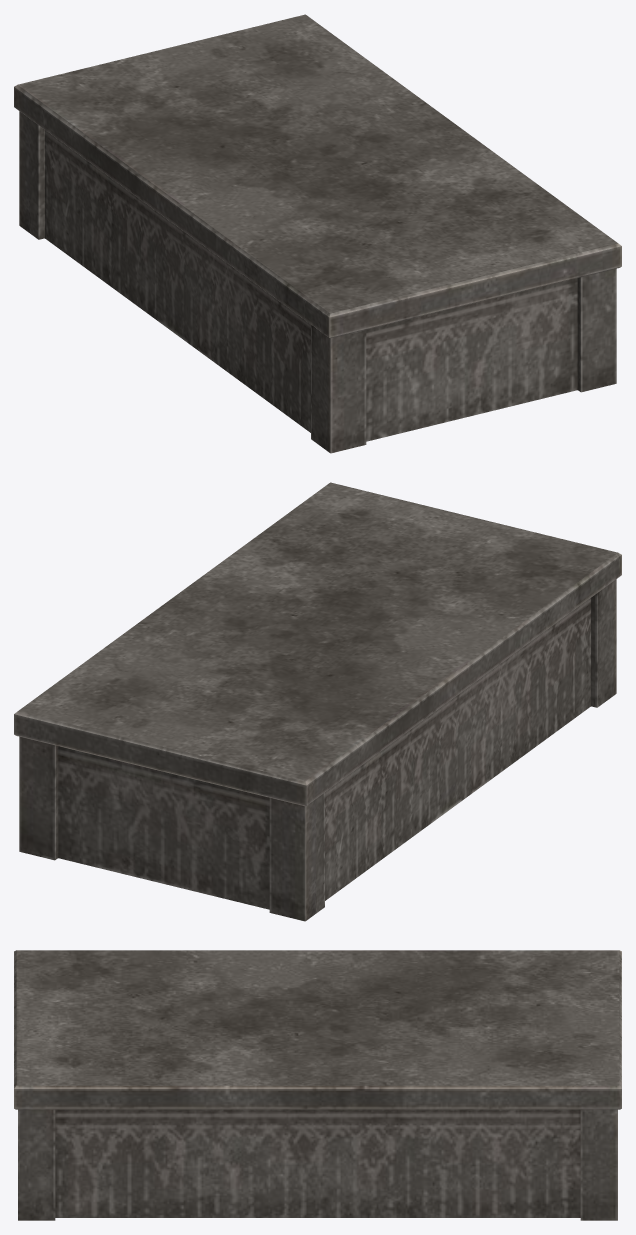
File: SM_Alter.glb
The picture shows the model from 3 angles, top to bottom: view 1: azimuth 30°, elevation 25°; view 2: azimuth 150°, elevation 25°; view 3: azimuth 270°, elevation 25°; orthographic projection. The views are drawn at different scales.
Parts seen in each view (by area): view 1: SM_Alter; view 2: SM_Alter; view 3: SM_Alter.
Boxes of the visible parts, bbox=[...] form: SM_Alter: bbox=[14, 14, 621, 453]; SM_Alter: bbox=[14, 482, 621, 921]; SM_Alter: bbox=[14, 950, 621, 1220].
Bounding box in the file's own units: 1.5 × 0.6907 × 2.81.
Materials: 1 (1 with a texture image).
